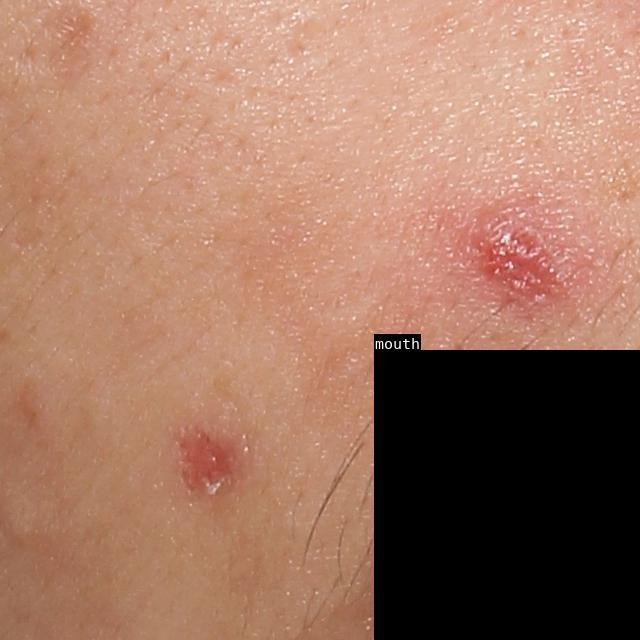atrophic_scar: (29, 3, 104, 84)
comedo: (2, 500, 39, 548)
papule: (475, 226, 549, 295)
